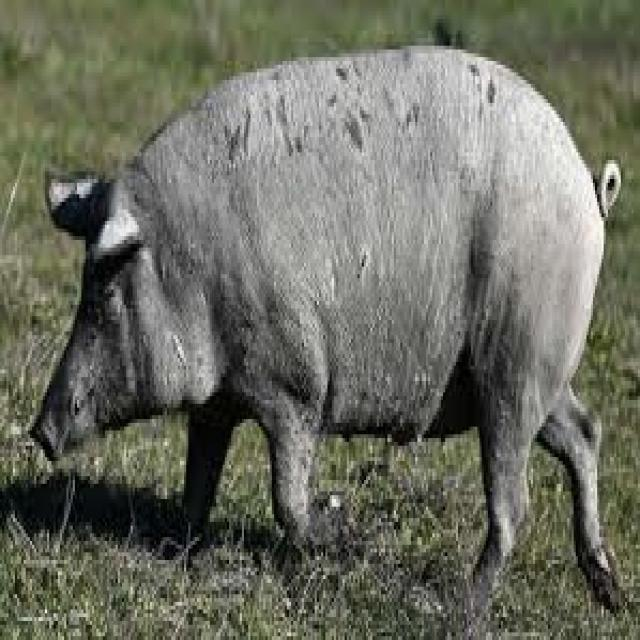pig: (32, 46, 619, 636)
